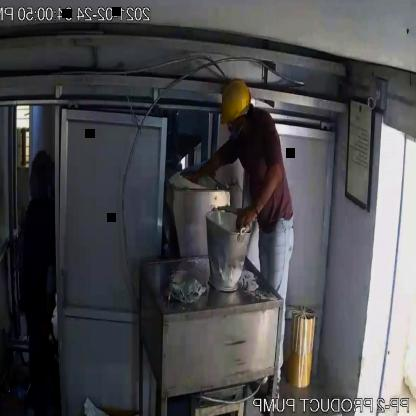helmet: (213, 71, 255, 128)
